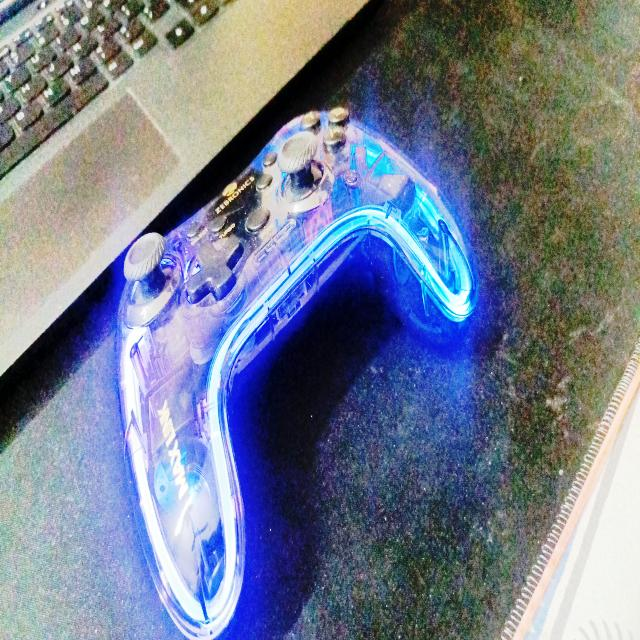gamepad: (112, 103, 480, 637)
